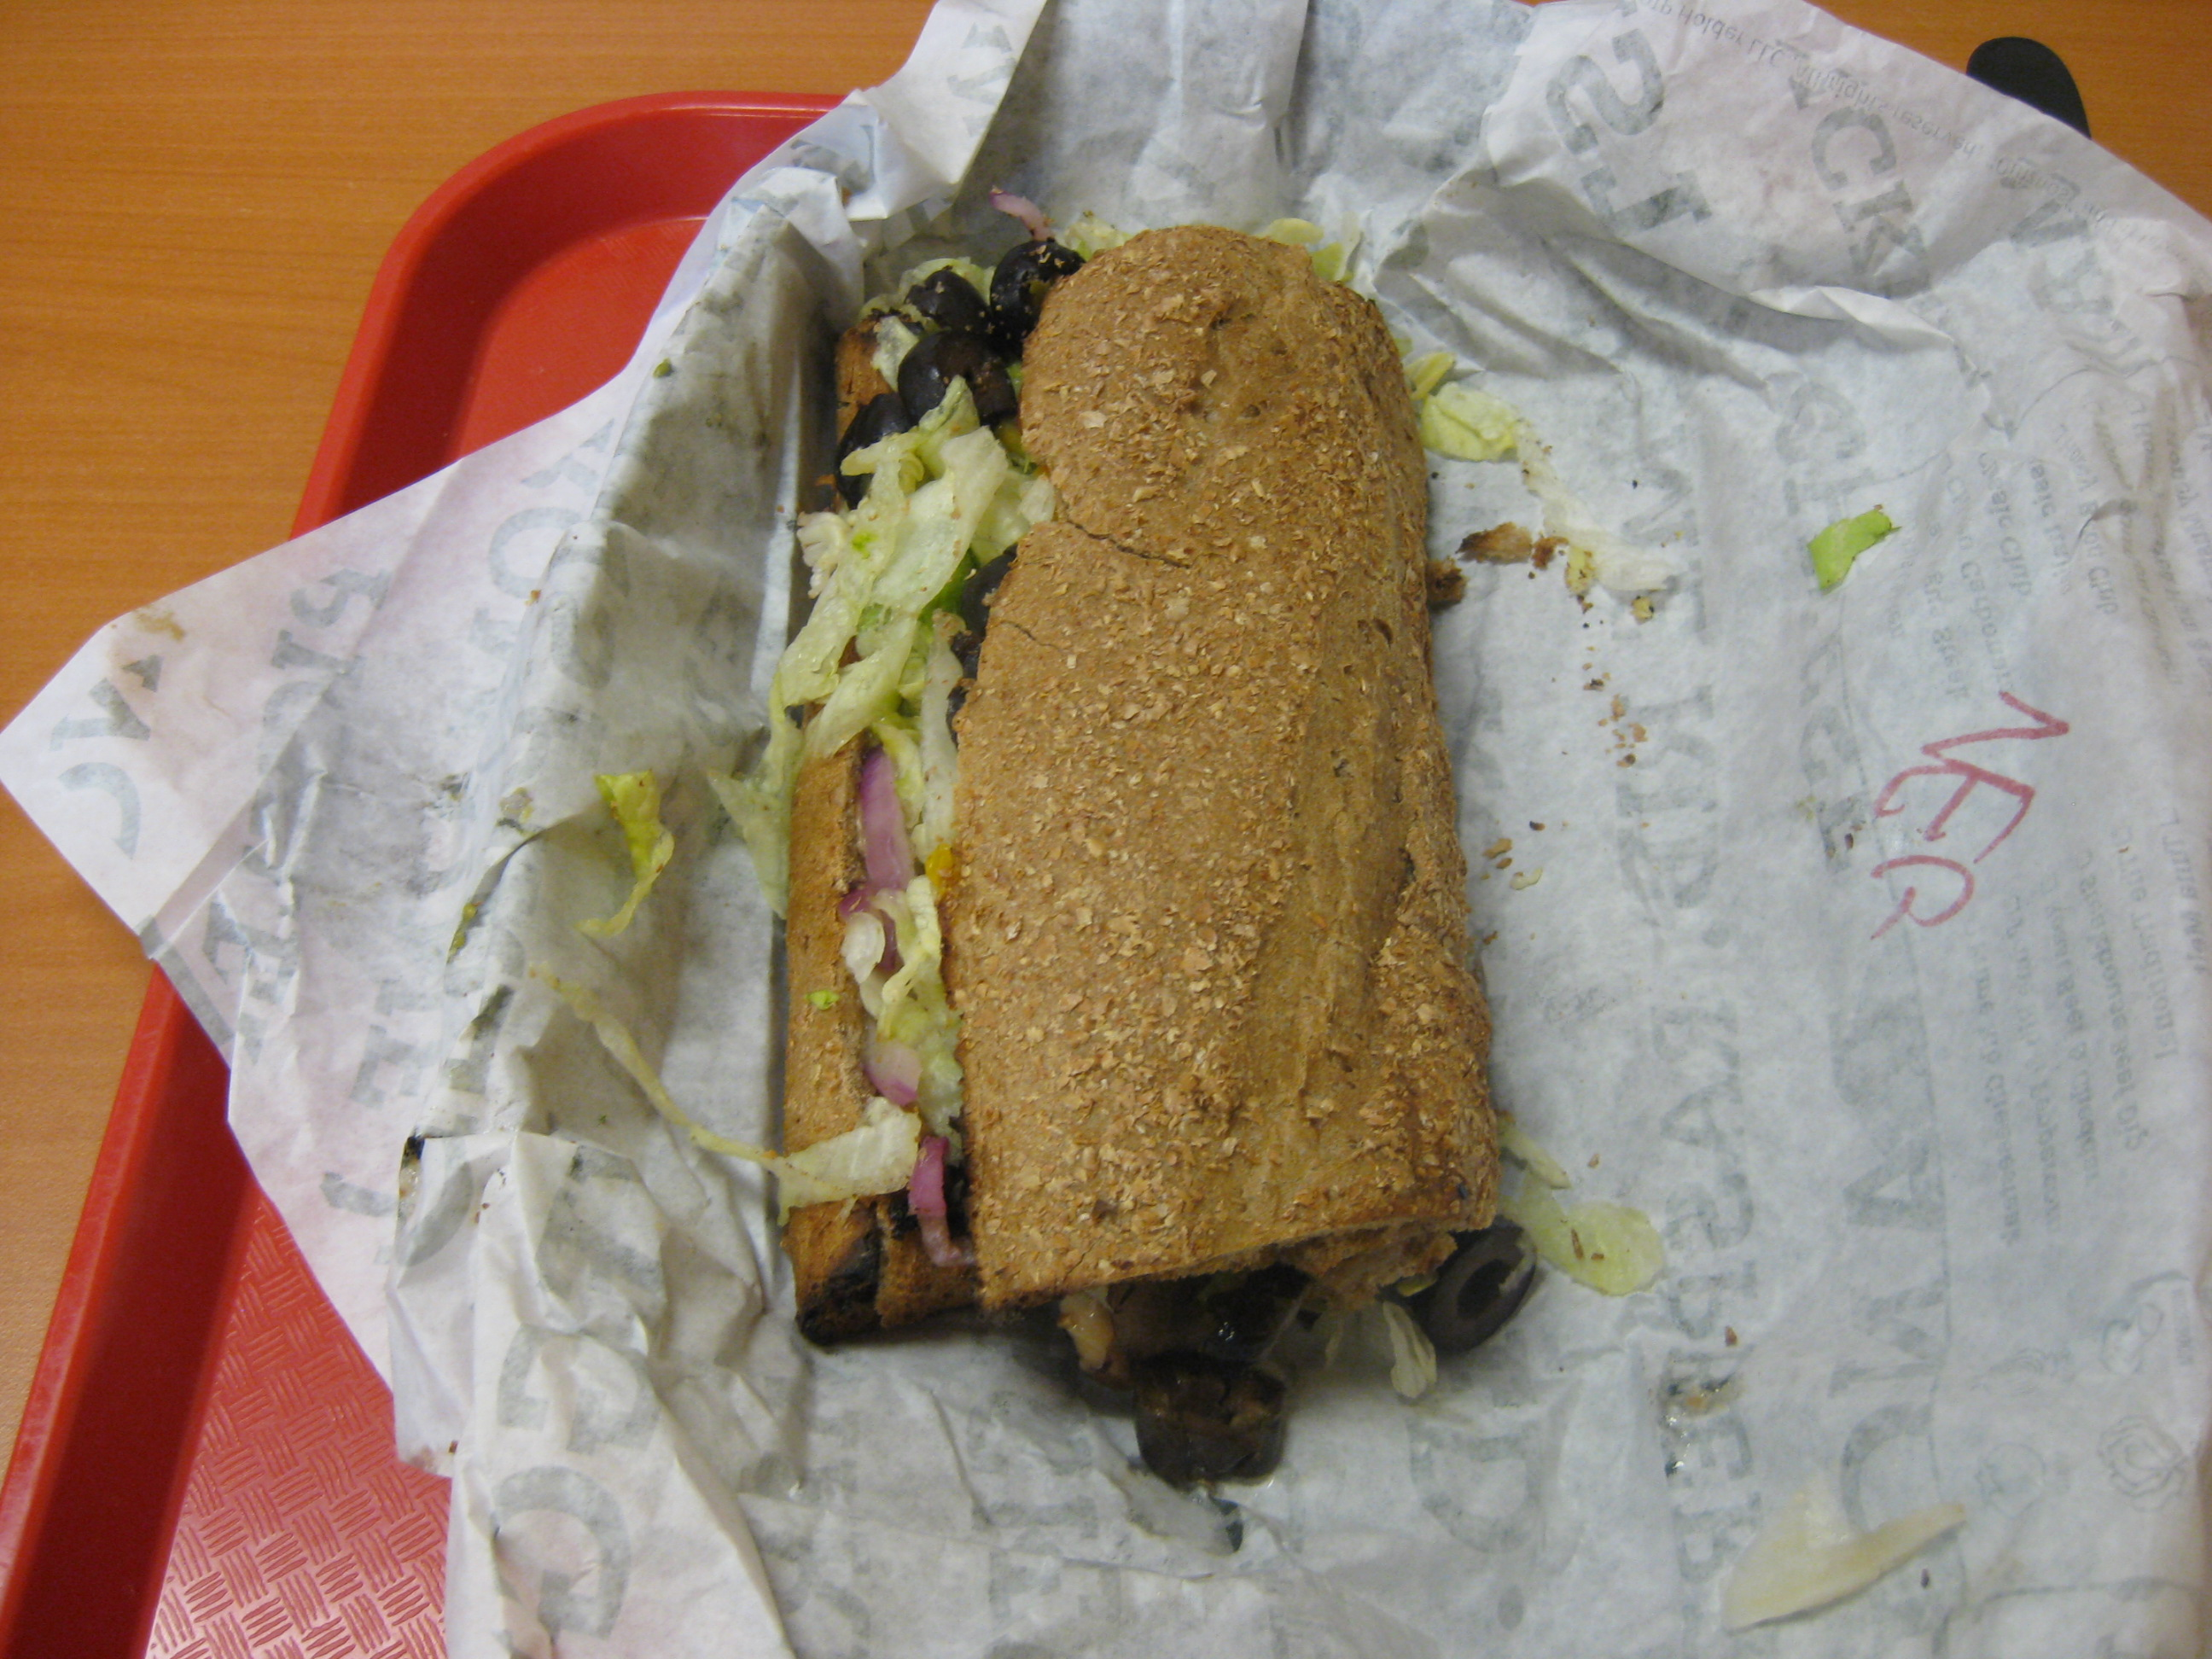sub: (772, 212, 1536, 1448)
